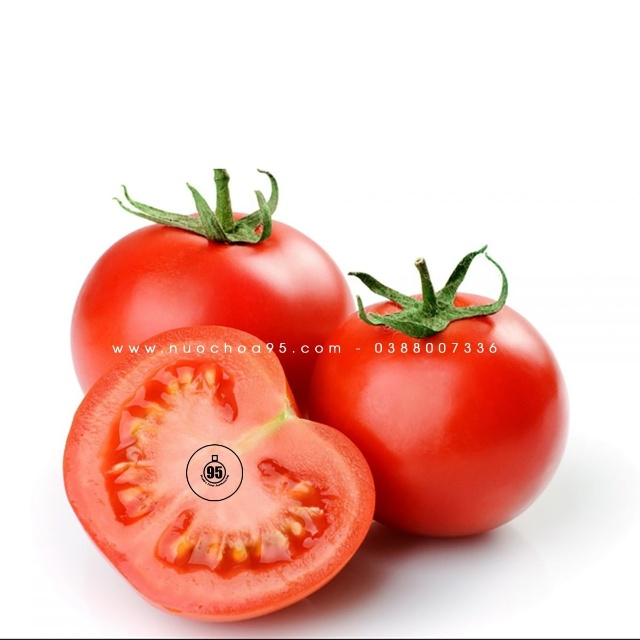ca_chua: (306, 294, 569, 546), (70, 213, 355, 396)
